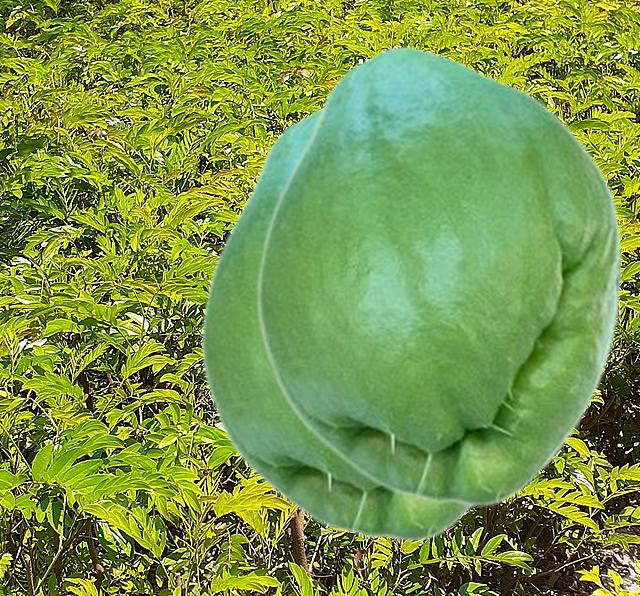sayote: (255, 46, 622, 508), (199, 104, 476, 543)
